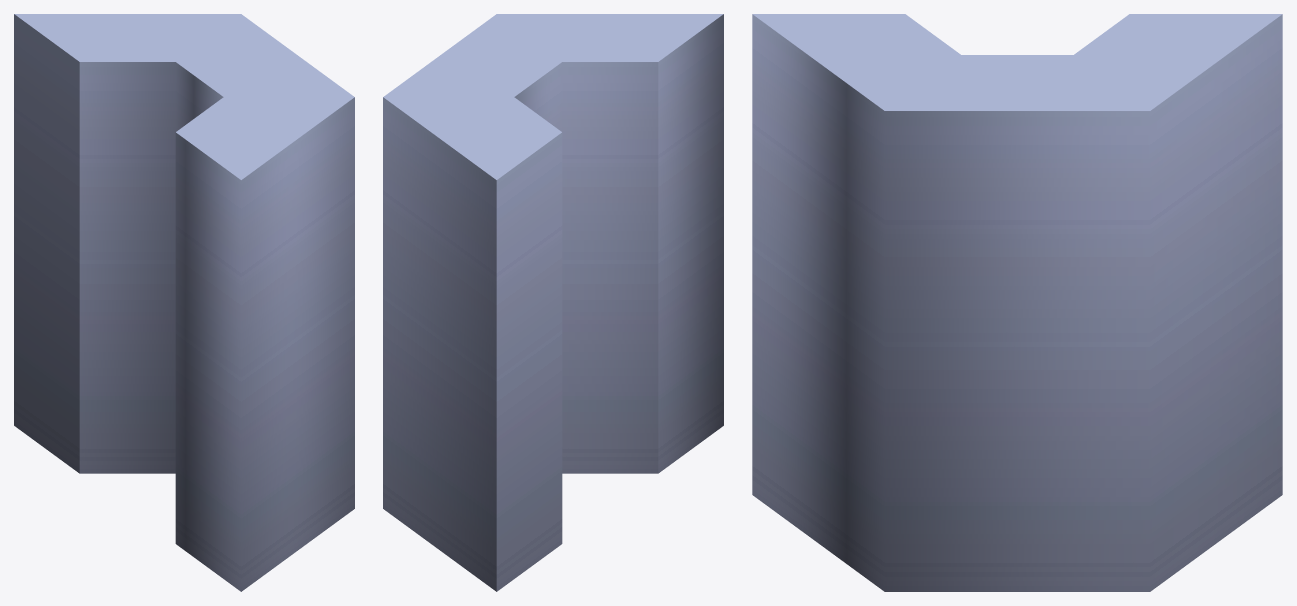
The model's file is shape-hollow-hexagon-half.glb.
The picture shows the model from 3 angles, left to right: view 1: azimuth 30°, elevation 25°; view 2: azimuth 150°, elevation 25°; view 3: azimuth 270°, elevation 25°; orthographic projection. The views are drawn at different scales.
Parts seen in each view (by area): view 1: shape-hollow-hexagon-half; view 2: shape-hollow-hexagon-half; view 3: shape-hollow-hexagon-half.
Boxes of the visible parts, <box> form: shape-hollow-hexagon-half: <box>14,14,354,591</box>; shape-hollow-hexagon-half: <box>383,14,723,591</box>; shape-hollow-hexagon-half: <box>752,14,1282,591</box>.
Bounding box in the file's own units: 0.433 × 1 × 1.
Materials: 1 (1 with a texture image).
